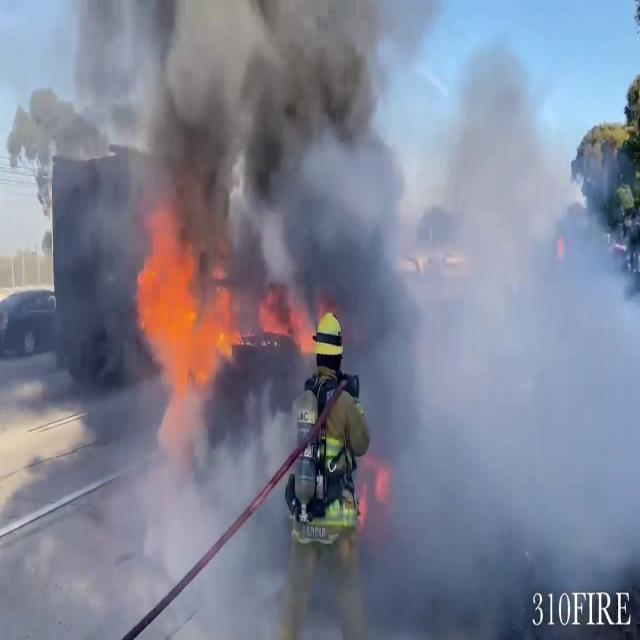Fire: (130, 205, 246, 426)
Smoke: (366, 29, 640, 586), (33, 0, 417, 316)
